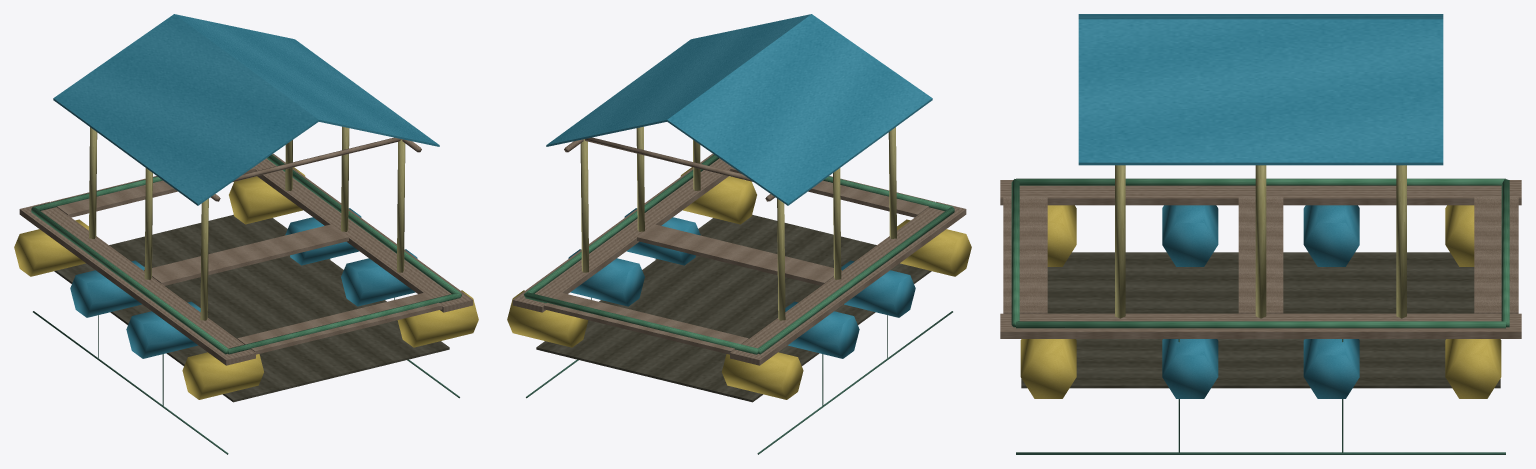
File: bung-raft-0-blue-mid.glb
The picture shows the model from 3 angles, left to right: view 1: azimuth 30°, elevation 25°; view 2: azimuth 150°, elevation 25°; view 3: azimuth 270°, elevation 25°; orthographic projection. The views are drawn at different scales.
Visible parts, largest first — view 1: bung-raft-0-blue-mid; view 2: bung-raft-0-blue-mid; view 3: bung-raft-0-blue-mid.
Part boxes in pixels (x1,y1,x2,y2): bung-raft-0-blue-mid: (14,14,478,454); bung-raft-0-blue-mid: (507,14,971,454); bung-raft-0-blue-mid: (1000,14,1521,454).
Size of the model in its own units: 4.14 by 4.17 by 5.4.
1 material, 1 textured.
